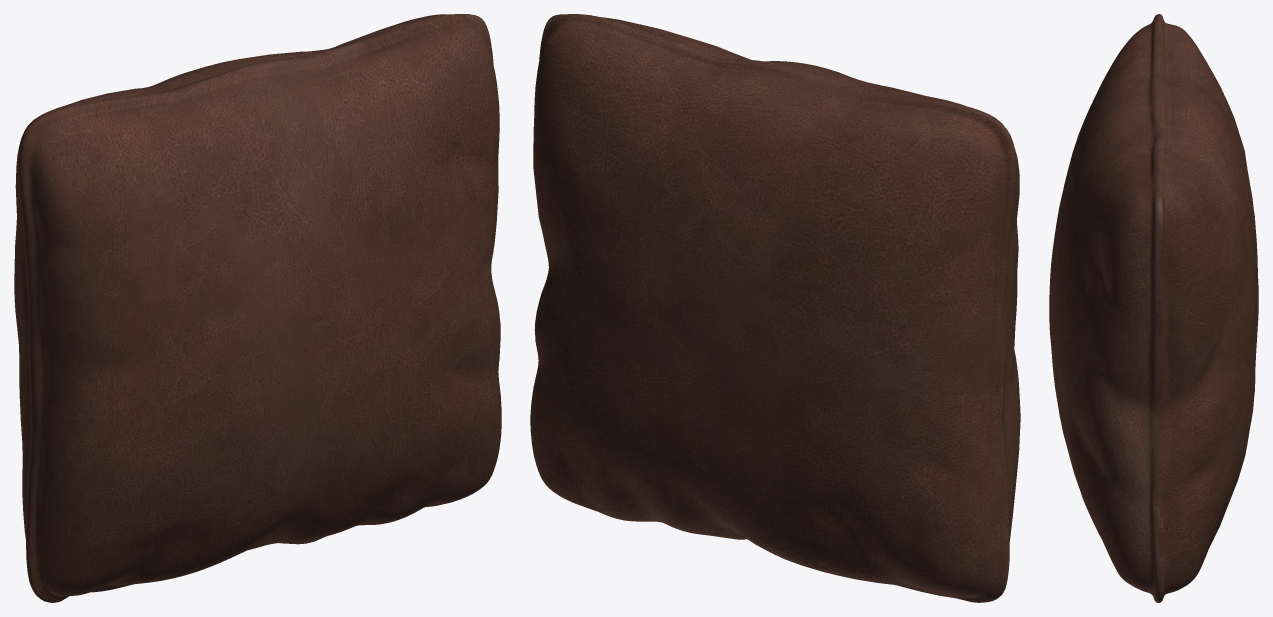
3 views of the same model, side by side, from view 1: azimuth 30°, elevation 25°; view 2: azimuth 150°, elevation 25°; view 3: azimuth 270°, elevation 25° (orthographic). The views are drawn at different scales.
Visible parts, largest first — view 1: "$AEGPDANGBJBAAAAAICBAAAAAAAAAAEBLGHOL"; view 2: "$AEGPDANGBJBAAAAAICBAAAAAAAAAAEBLGHOL"; view 3: "$AEGPDANGBJBAAAAAICBAAAAAAAAAAEBLGHOL".
Part boxes in pixels (<box>): "$AEGPDANGBJBAAAAAICBAAAAAAAAAAEBLGHOL": <box>14,14,501,602</box>; "$AEGPDANGBJBAAAAAICBAAAAAAAAAAEBLGHOL": <box>530,14,1020,602</box>; "$AEGPDANGBJBAAAAAICBAAAAAAAAAAEBLGHOL": <box>1049,14,1258,602</box>.
Size of the model in its own units: 0.5315 by 0.5233 by 0.2363.
1 material, 1 textured.
